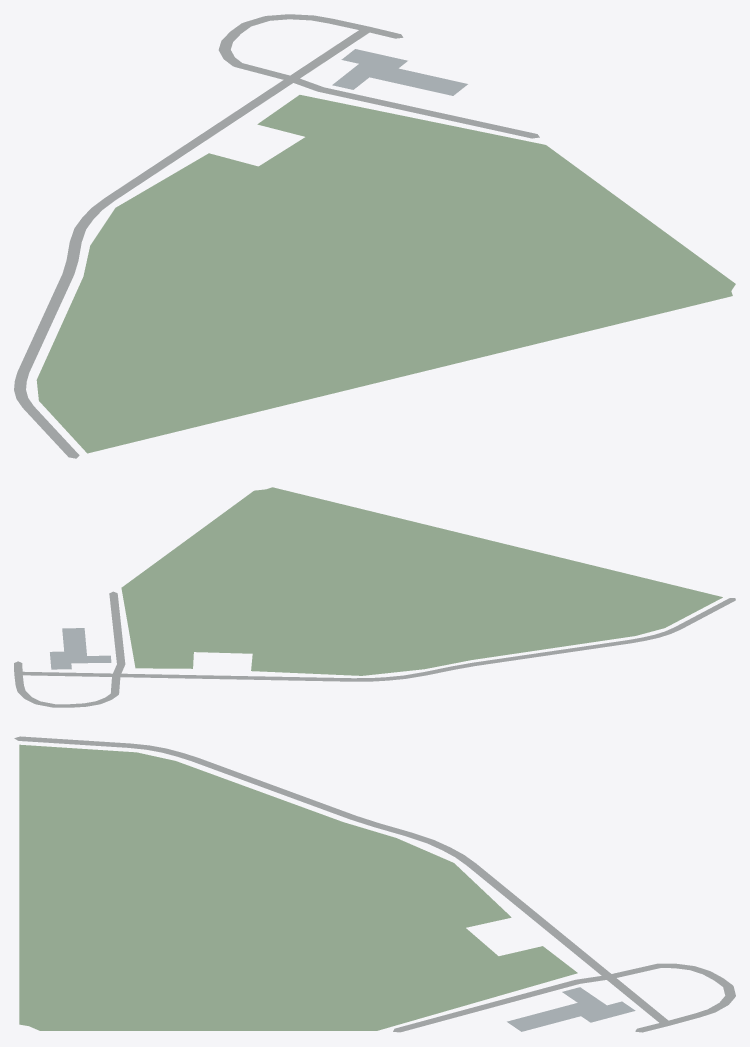
Rendered from -20_-2-known-coarse.glb.
3 views of the same model, one above another, from view 1: azimuth 30°, elevation 25°; view 2: azimuth 150°, elevation 25°; view 3: azimuth 270°, elevation 25° (orthographic). The views are drawn at different scales.
Size of the model in its own units: 197 by 0.15 by 203.
